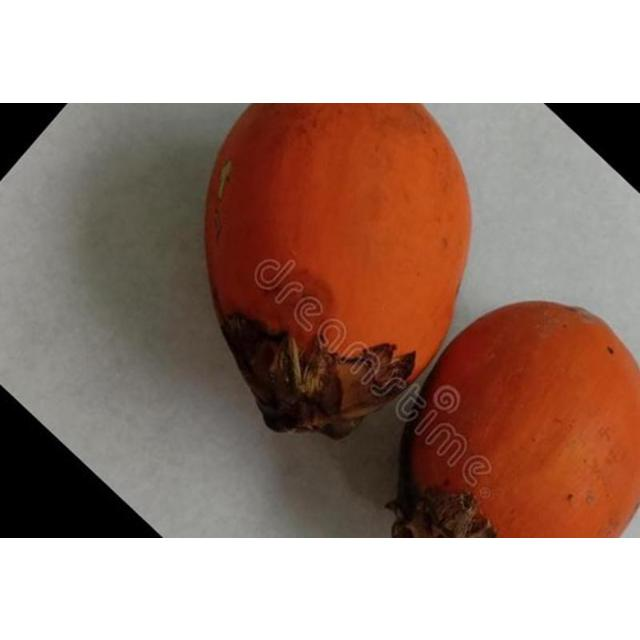good: (202, 102, 474, 440), (392, 300, 639, 536)
